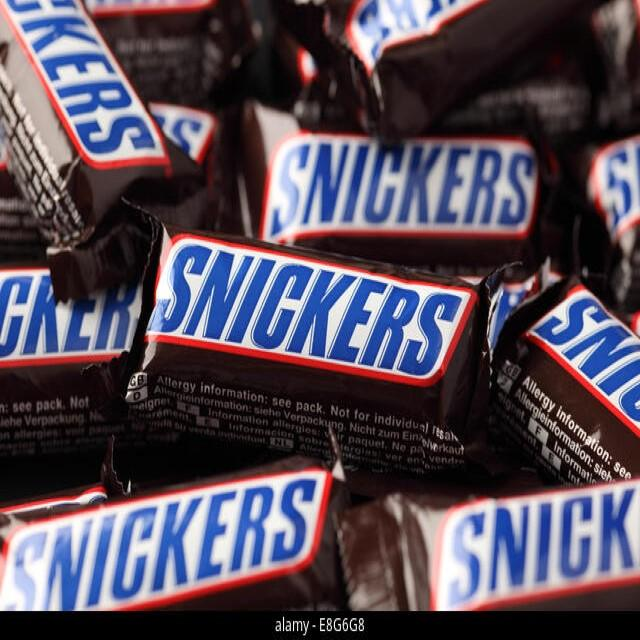snickers_chocolate: (0, 461, 395, 640), (155, 232, 462, 445), (348, 440, 632, 628), (2, 212, 280, 400), (258, 115, 577, 232), (18, 0, 156, 233), (540, 280, 640, 537)
